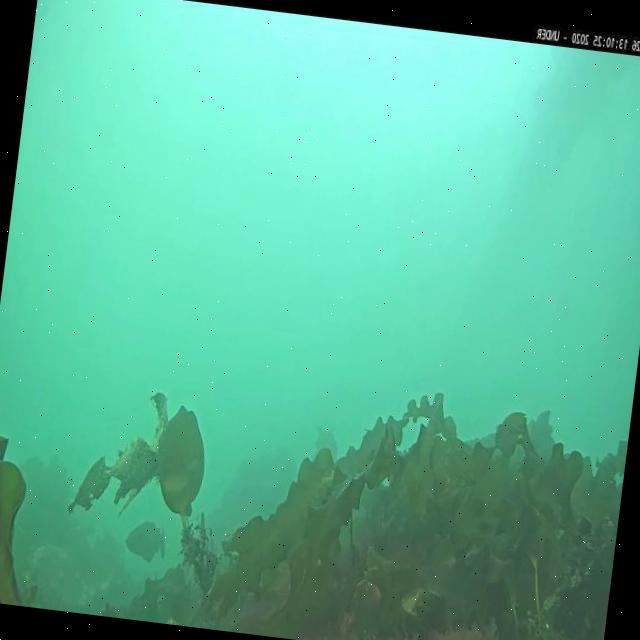fish: (122, 519, 170, 566)
